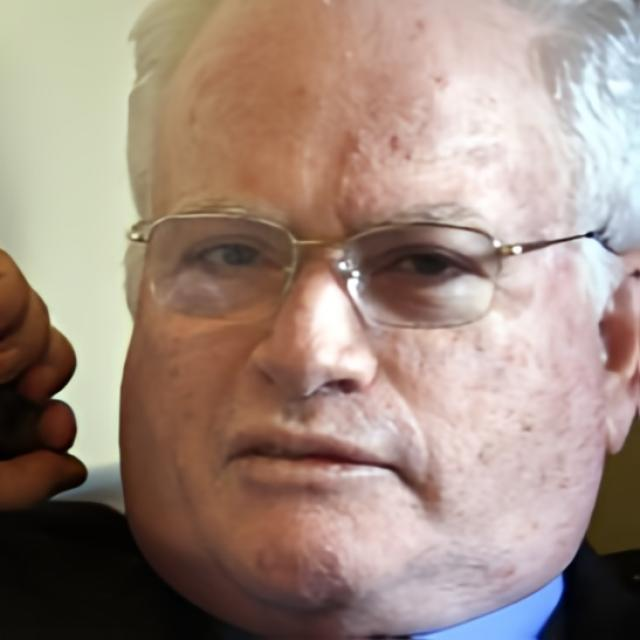anger: (128, 48, 568, 608)
